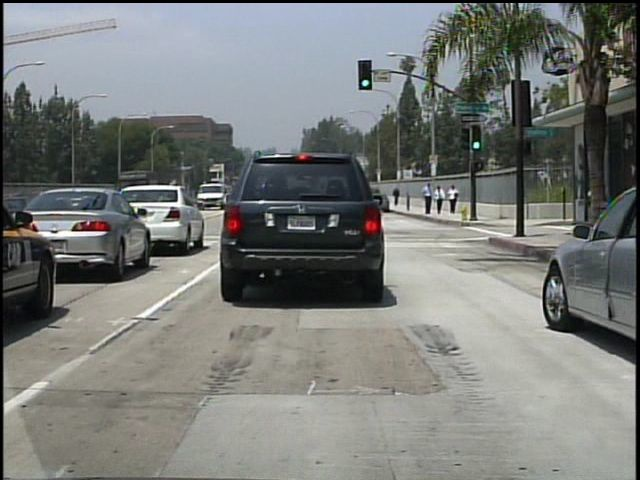person: (422, 180, 435, 215), (448, 183, 461, 215), (435, 182, 447, 214), (392, 186, 401, 208)
